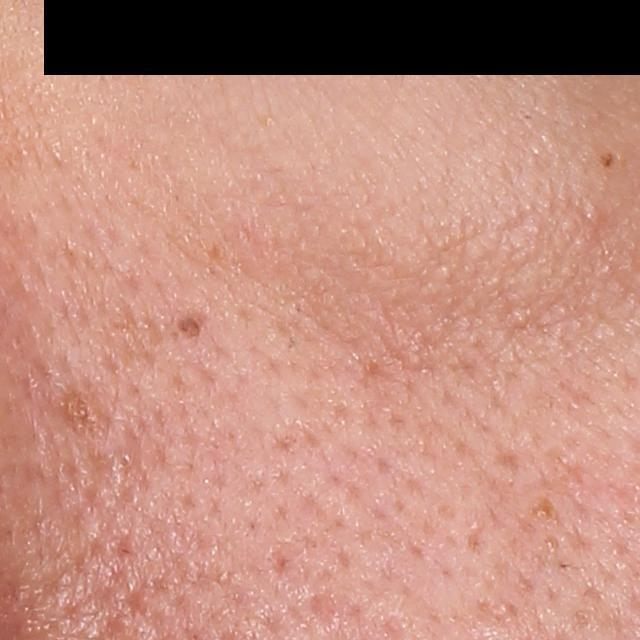nevus: (174, 308, 210, 340), (596, 151, 619, 172)
